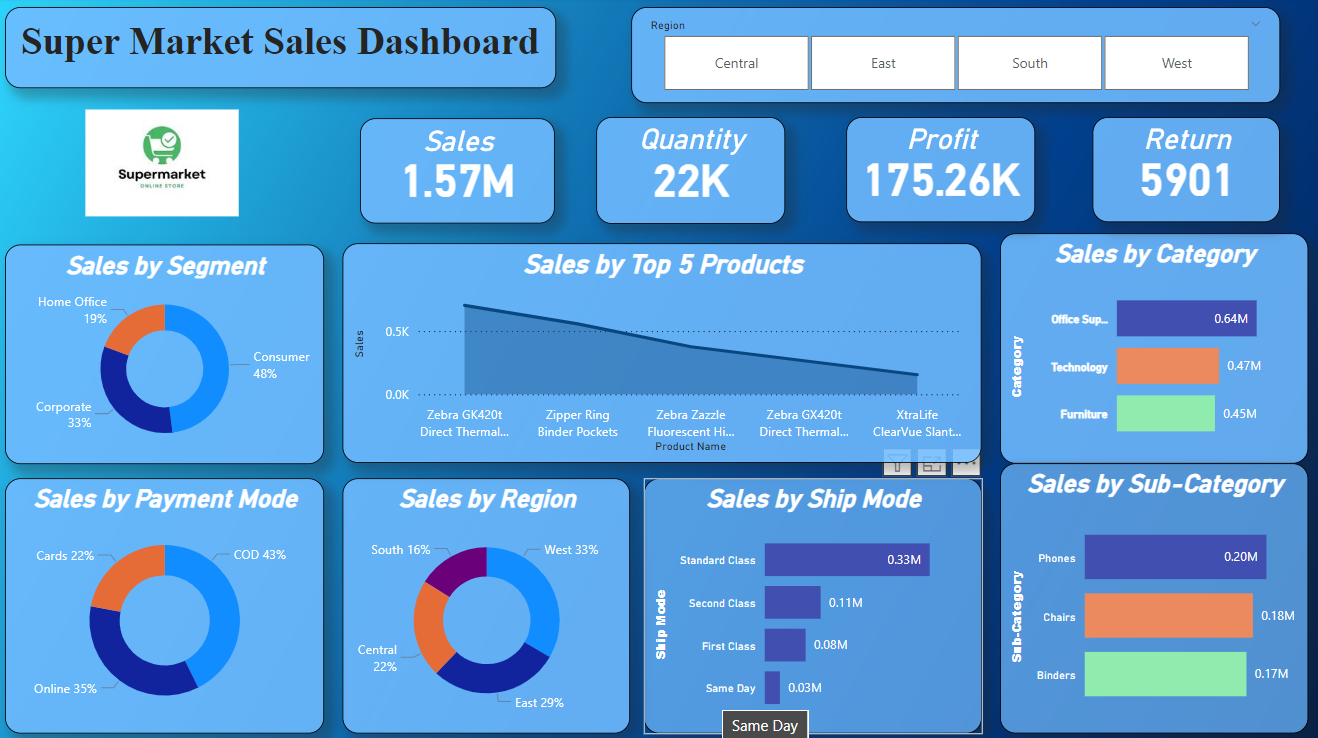

Layout of this report page (visuals, bound fields, positions):
{"tool":"powerbi","page":{"name":"Page 1","canvas":[1280,720],"ordinal":0},"visuals":[{"type":"barChart","title":"Sales by Category","fields":{"Category":["SuperStore_Sales_Dataset.Category"],"Y":["Sum(SuperStore_Sales_Dataset.Sales)"]},"box":[964.7,227.8,297.8,222.3],"z":0},{"type":"barChart","title":"Sales by Sub-Category","fields":{"Y":["Sum(SuperStore_Sales_Dataset.Sales)"],"Category":["SuperStore_Sales_Dataset.Sub-Category"]},"box":[964.7,450.1,297.8,260.7],"z":1000},{"type":"barChart","title":"Sales by Ship Mode","fields":{"Y":["Sum(SuperStore_Sales_Dataset.Sales)"],"Category":["SuperStore_Sales_Dataset.Ship Mode"]},"box":[621.5,464.7,326.4,246.6],"z":2000},{"type":"donutChart","title":"Sales by Segment","fields":{"Y":["Sum(SuperStore_Sales_Dataset.Sales)"],"Category":["SuperStore_Sales_Dataset.Segment"]},"box":[4.3,239.5,307.9,212.4],"z":3000},{"type":"donutChart","title":"Sales by Region","fields":{"Y":["Sum(SuperStore_Sales_Dataset.Sales)"],"Category":["SuperStore_Sales_Dataset.Region"]},"box":[330.7,464.7,278,246.6],"z":4000},{"type":"donutChart","title":"Sales by Payment Mode","fields":{"Y":["Sum(SuperStore_Sales_Dataset.Sales)"],"Category":["SuperStore_Sales_Dataset.Payment Mode"]},"box":[4.3,464.7,307.9,246.6],"z":5000},{"type":"slicer","fields":{"Values":["SuperStore_Sales_Dataset.Region"]},"box":[609.3,9.7,626.1,92.9],"z":6000},{"type":"textbox","box":[4.3,10,531.7,78.4],"z":7000},{"type":"card","title":"Sales","fields":{"Values":["Sum(SuperStore_Sales_Dataset.Sales)"]},"box":[347.2,116.6,188,101.5],"z":8000},{"type":"card","title":"Quantity","fields":{"Values":["Sum(SuperStore_Sales_Dataset.Quantity)"]},"box":[575,115.3,182.5,102.9],"z":9000},{"type":"card","title":"Profit","fields":{"Values":["Sum(SuperStore_Sales_Dataset.Profit)"]},"box":[816.5,115.3,182.5,101.5],"z":10000},{"type":"card","title":"Return","fields":{"Values":["CountNonNull(SuperStore_Sales_Dataset.Returns)"]},"box":[1053.9,115.3,181.1,101.5],"z":11000},{"type":"stackedAreaChart","title":"Sales by Top 5 Products","fields":{"Category":["SuperStore_Sales_Dataset.Product Name"],"Y":["Sum(SuperStore_Sales_Dataset.Sales)"]},"box":[330.7,238,617.2,212.4],"z":12000},{"type":"image","box":[0,104.1,312.2,112.6],"z":13000}]}

Visuals, with their boxes in screenshot pixels (x1, y1, x2, y2), scaled from the page's 1280x720 canvas onto the 1318x738 screenshot:
"Sales by Category" barChart: 993:233:1300:461
"Sales by Sub-Category" barChart: 993:461:1300:729
"Sales by Ship Mode" barChart: 640:476:976:729
"Sales by Segment" donutChart: 4:245:321:463
"Sales by Region" donutChart: 341:476:627:729
"Sales by Payment Mode" donutChart: 4:476:321:729
slicer - SuperStore_Sales_Dataset.Region: 627:10:1272:105
textbox: 4:10:552:91
"Sales" card: 358:120:551:224
"Quantity" card: 592:118:780:224
"Profit" card: 841:118:1029:222
"Return" card: 1085:118:1272:222
"Sales by Top 5 Products" stackedAreaChart: 341:244:976:462
image: 0:107:321:222
